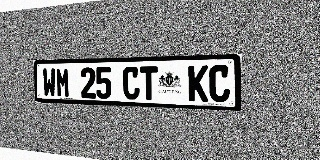2: (80, 67, 96, 98)
5: (96, 67, 112, 99)
C: (209, 65, 230, 103), (123, 67, 140, 100)
K: (188, 65, 208, 102)
M: (56, 68, 70, 98)
T: (140, 66, 158, 100)
W: (42, 68, 56, 97)
